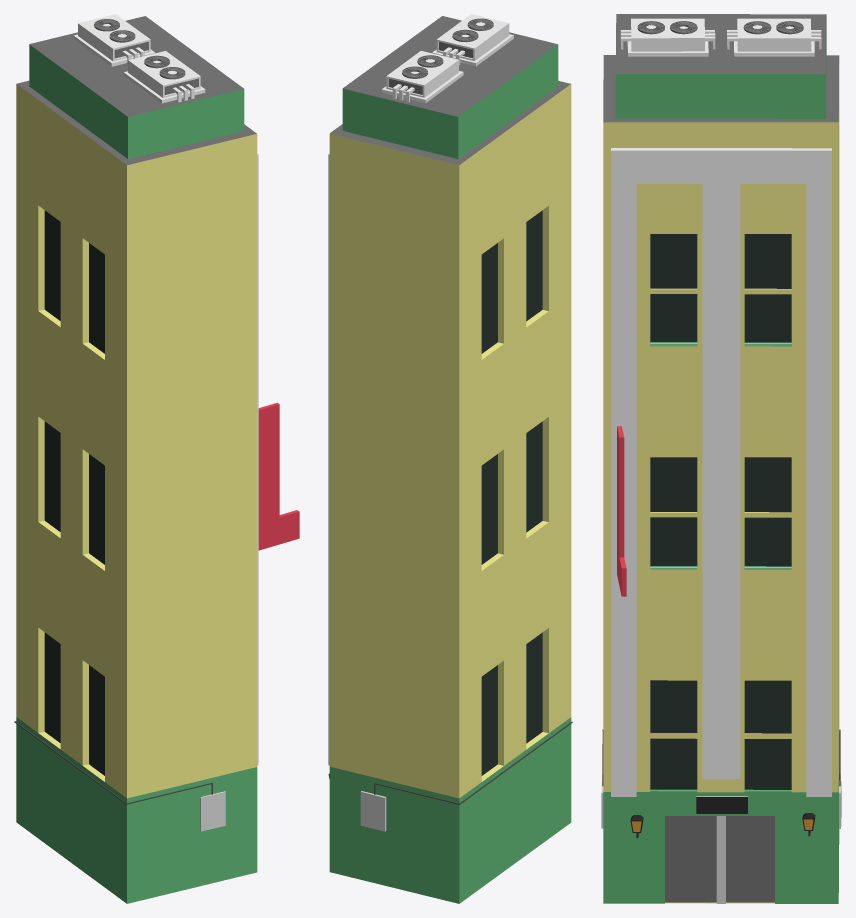
Rendered from Building_04_tran.glb.
3 renders of one model, left to right at view 1: azimuth 30°, elevation 25°; view 2: azimuth 150°, elevation 25°; view 3: azimuth 270°, elevation 25°, orthographic. The views are drawn at different scales.
Parts seen in each view (by area): view 1: Cube.13889, Cube.13885, Cube.13886, Cube.13888; view 2: Cube.13889, Cube.13886, Cube.13885, Cube.13888; view 3: Cube.13889, Cube.13888, Cube.13885, Cube.13886.
Boxes of the visible parts, x1,y1,x2,y2 form: Cube.13889: (14, 16, 299, 903); Cube.13885: (123, 51, 205, 103); Cube.13886: (73, 14, 155, 66); Cube.13888: (257, 153, 258, 765); Cube.13889: (328, 16, 572, 903); Cube.13886: (381, 51, 463, 103); Cube.13885: (432, 14, 513, 66); Cube.13888: (328, 153, 329, 765); Cube.13889: (601, 14, 841, 903); Cube.13888: (611, 148, 831, 796); Cube.13885: (620, 18, 715, 56); Cube.13886: (727, 18, 821, 56).
Bounding box in the file's own units: 0.1575 × 0.66 × 0.17.
